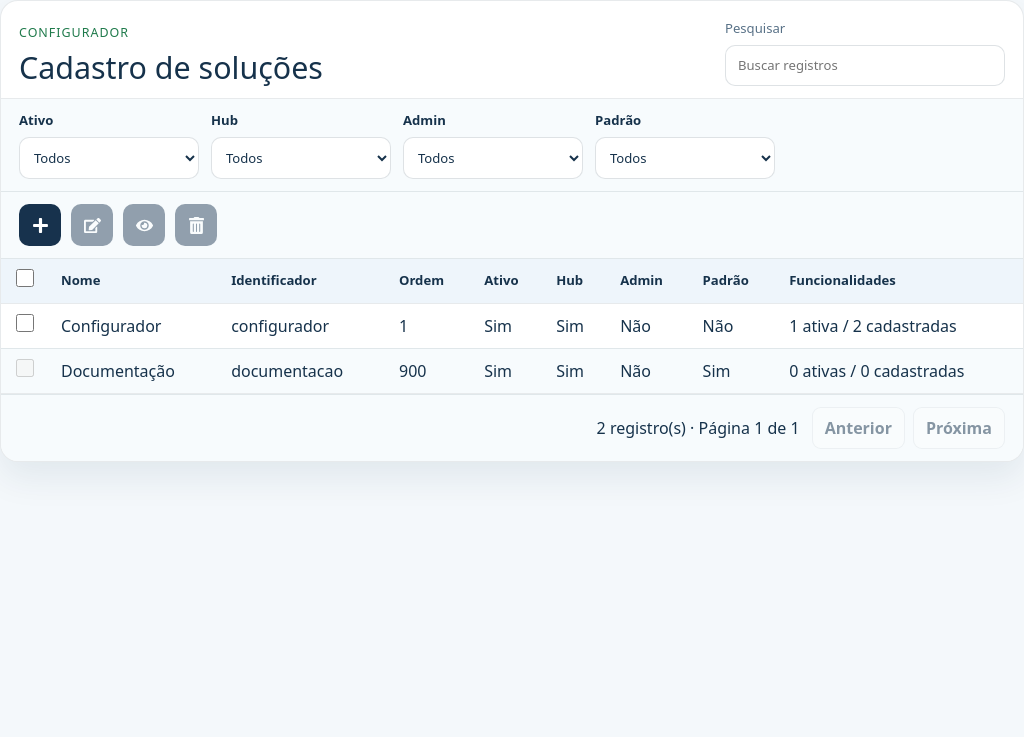
CRUDs do Configurador › mantém soluções realmente somente leitura ao visualizar
Click the cell "Configurador" at (134, 326), box [49,303,219,348]
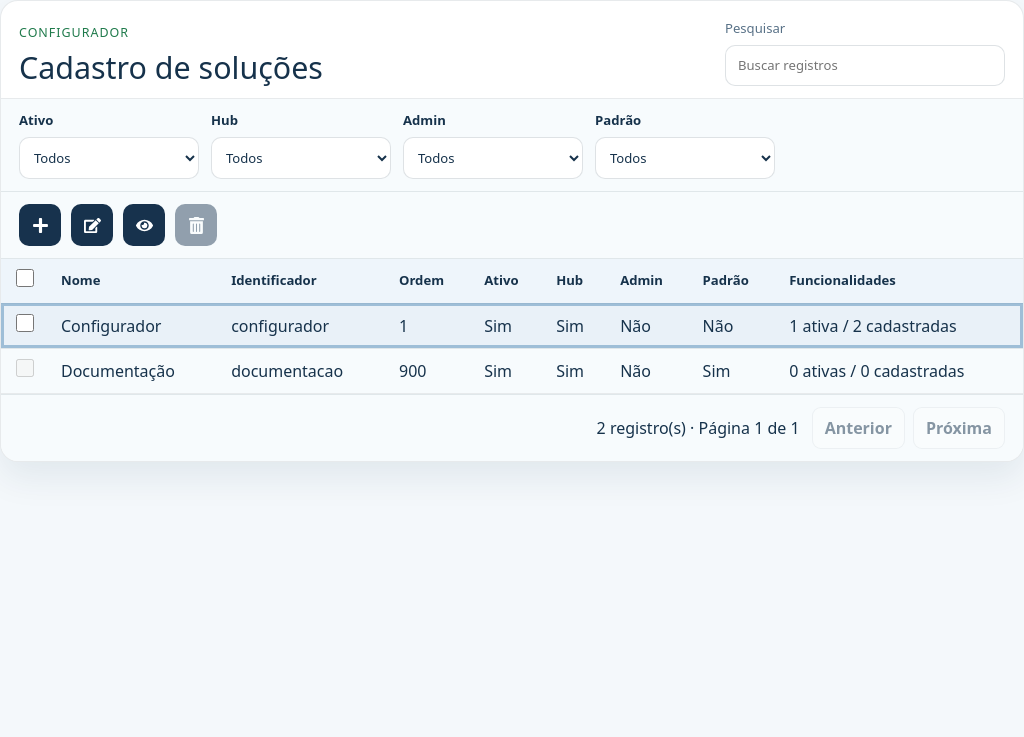
Click the button named "Visualizar" at (144, 225), box [123,204,165,246]
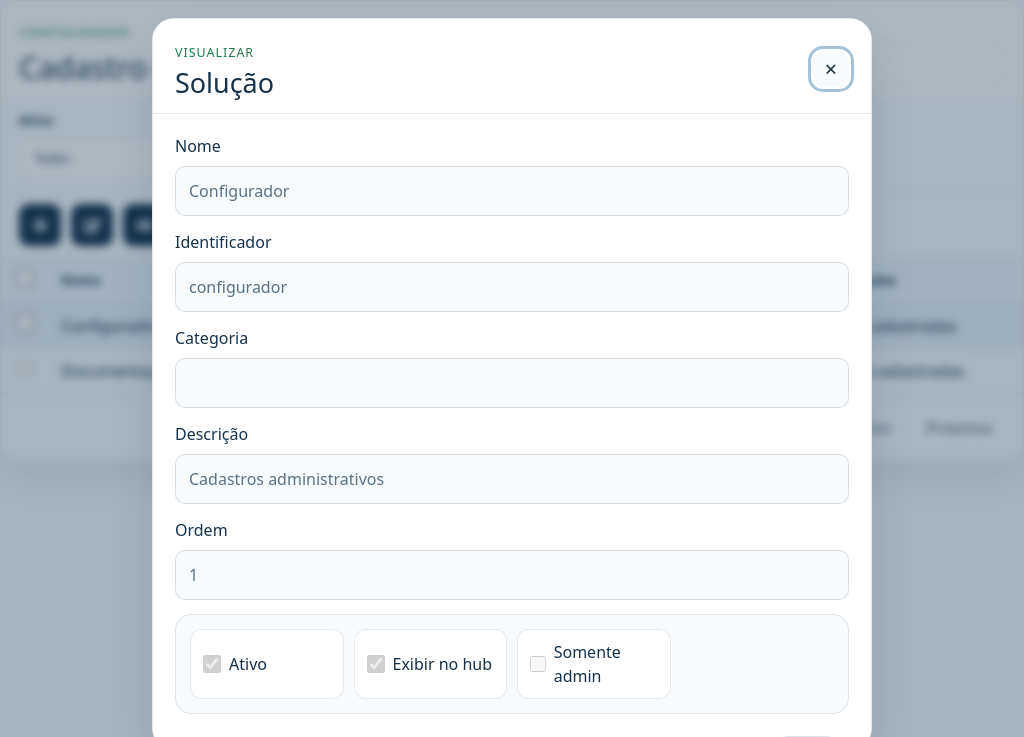
expect the field labelled "Nome" is disabled: met, box [175,166,849,216]
